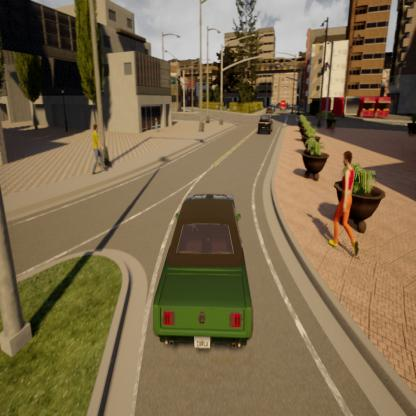Cars: (143, 180, 266, 366), (256, 112, 277, 138)
Pedestrian: (322, 144, 366, 265), (82, 122, 110, 181), (152, 118, 162, 137)
